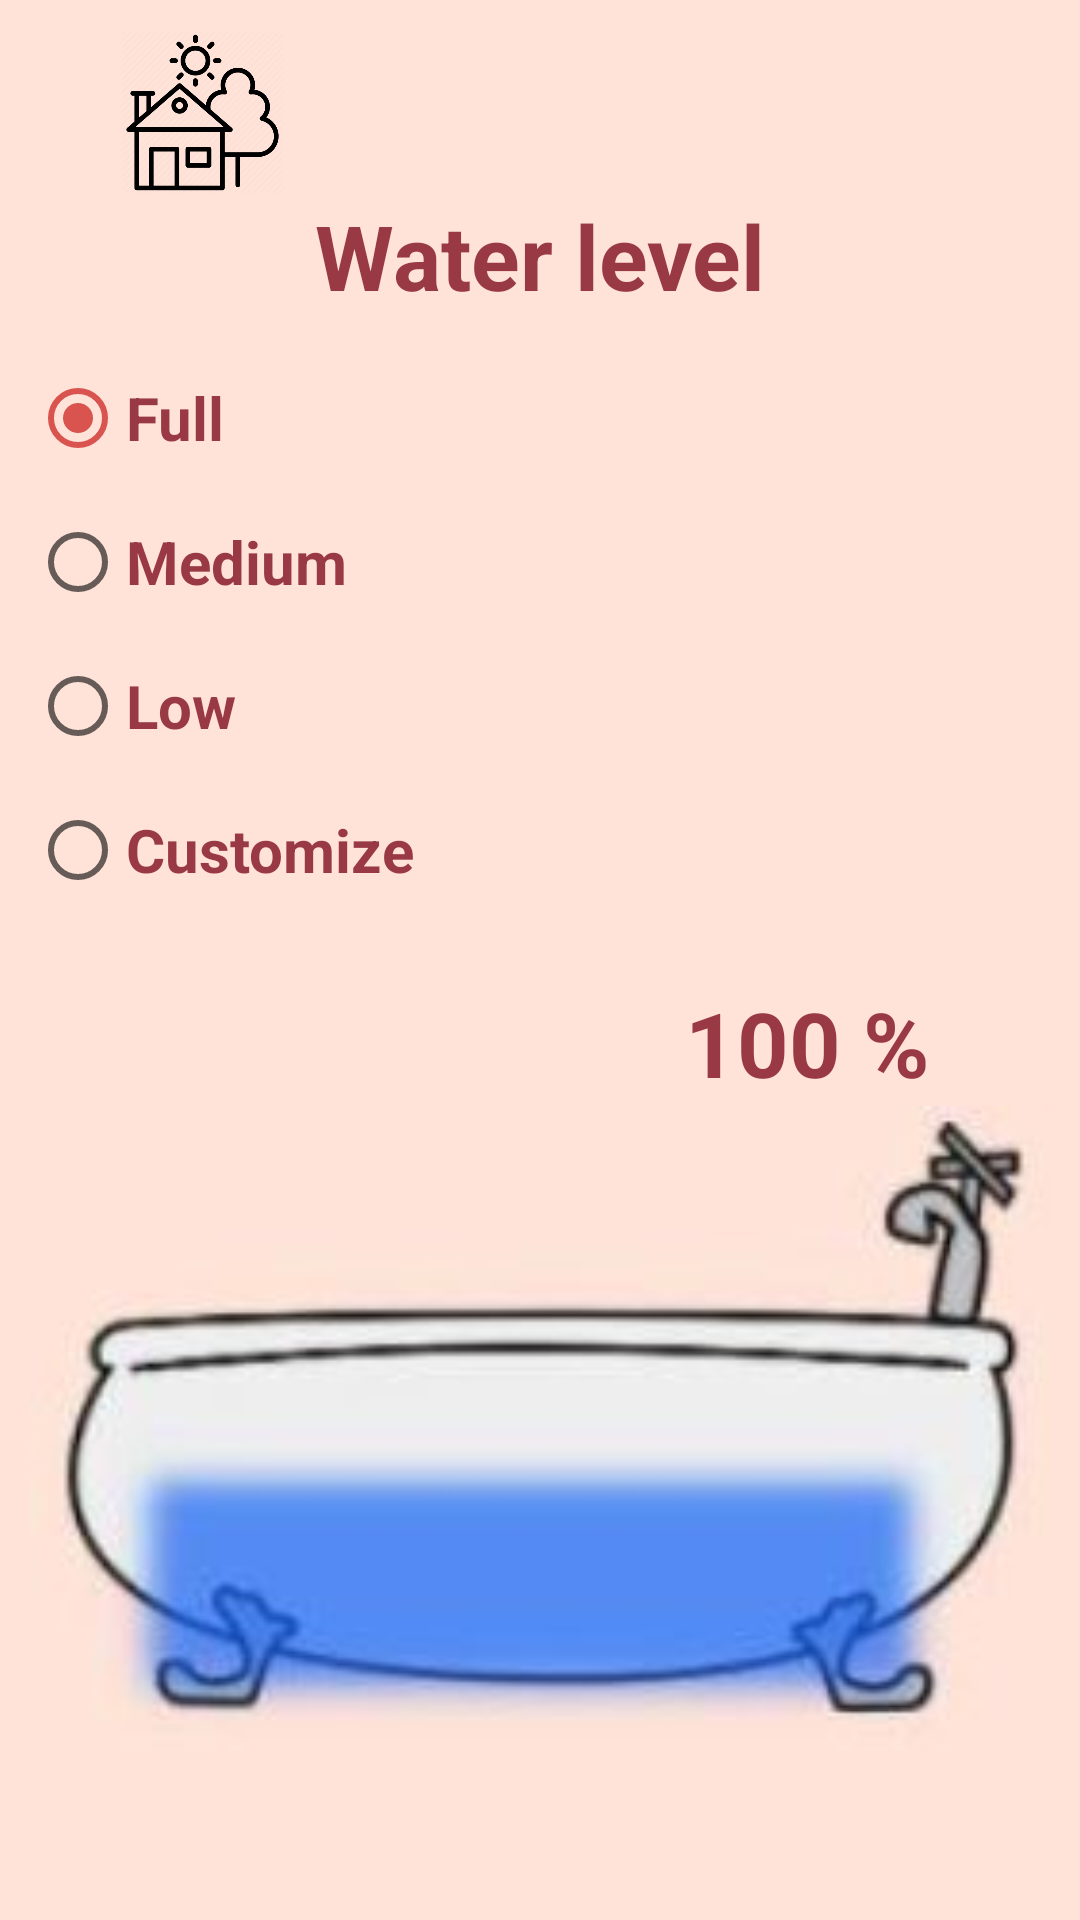

Icon click points for this 1080 × 1920 phone screenshot, format point (x, y):
house: point (202, 112)
